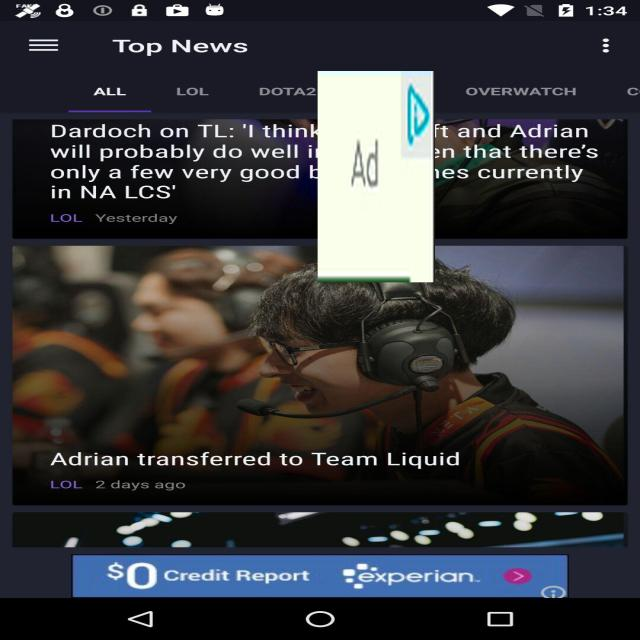sneaking: (318, 71, 435, 282)
